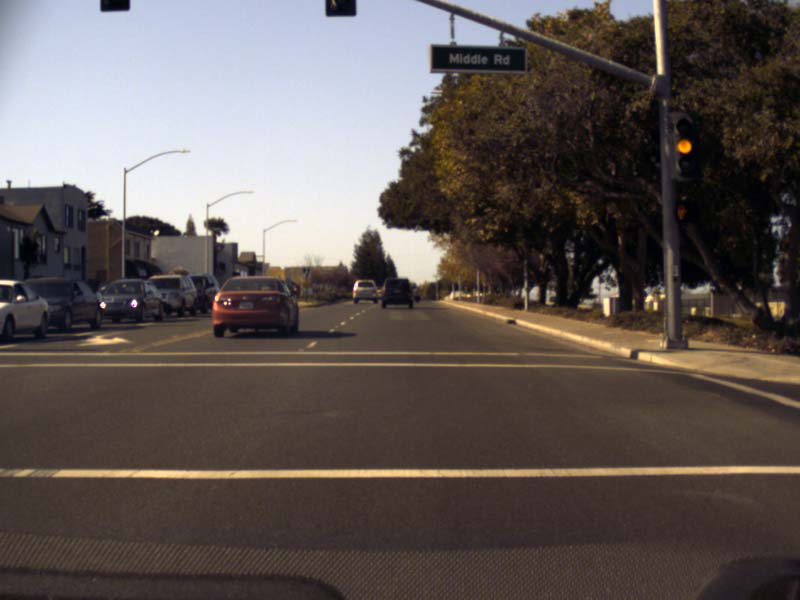Yellow: (672, 119, 696, 175)
